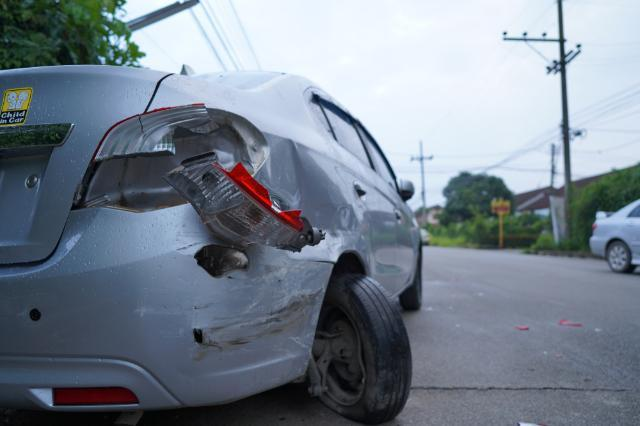crack: (191, 245, 253, 280)
dent: (256, 141, 361, 250)
lamp broken: (72, 112, 326, 249)
scratch: (179, 267, 324, 365)
tire flat: (306, 272, 411, 426)
